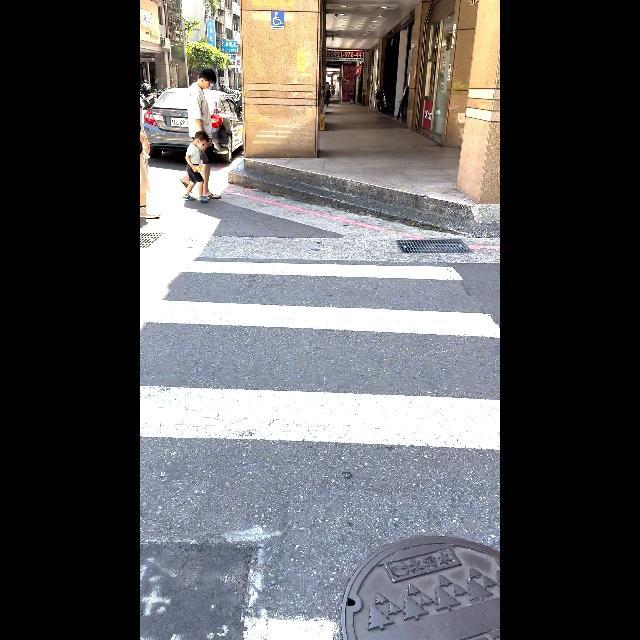sidewalk: (140, 201, 500, 637)
